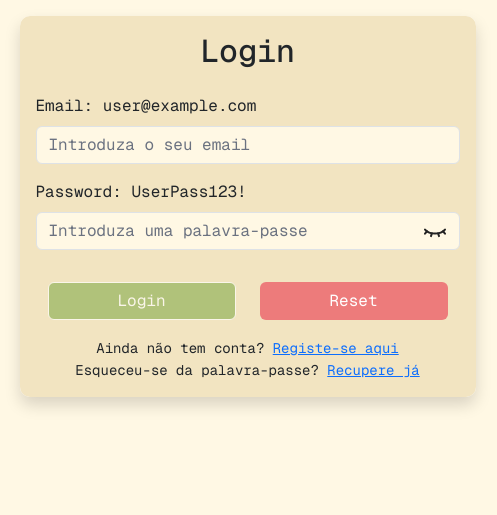
Test: User wants to create account › should show the register page to the user
Click the link with test id "bt-register" at (336, 348), box [273,339,399,357]
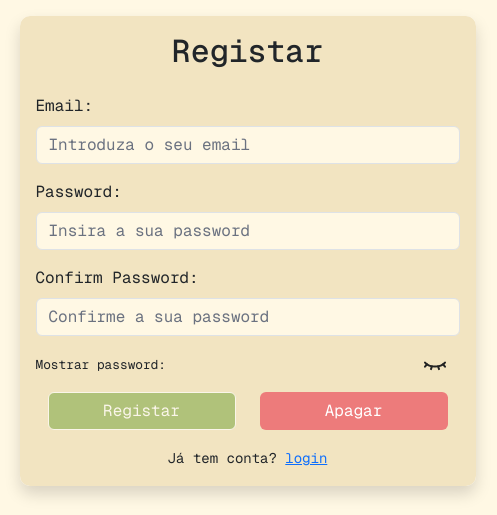
Now the element with test id "register-container" is shown
